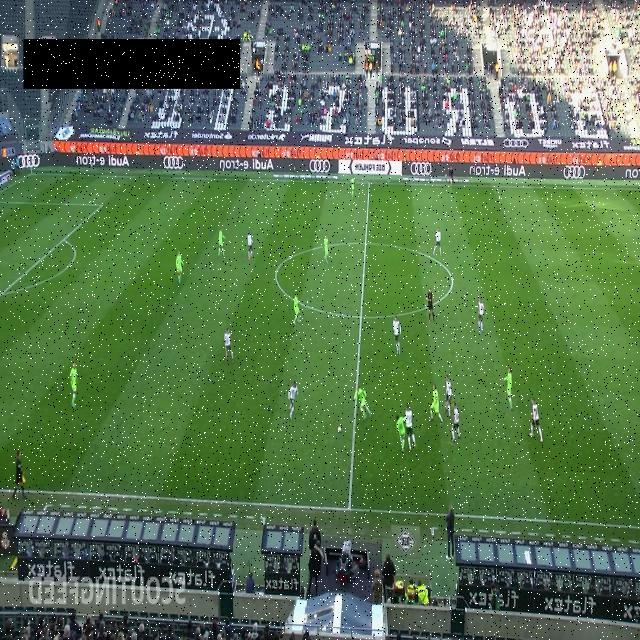Ball: (337, 426, 341, 432)
Corner: (30, 139, 34, 176)
Referee: (12, 448, 27, 499), (427, 286, 435, 323), (448, 167, 454, 186)
TEAM 1: (528, 396, 544, 442), (404, 403, 418, 451), (392, 314, 402, 356), (223, 326, 234, 363), (451, 402, 461, 442), (288, 380, 298, 420), (444, 374, 452, 418), (432, 226, 442, 256), (478, 296, 484, 334), (247, 230, 253, 260)
TEAM 2: (428, 383, 444, 425), (353, 384, 371, 420), (502, 366, 514, 412), (69, 360, 79, 408), (396, 413, 406, 452), (292, 290, 302, 326), (175, 250, 185, 284), (322, 233, 330, 264), (218, 226, 226, 257), (349, 173, 356, 200)
